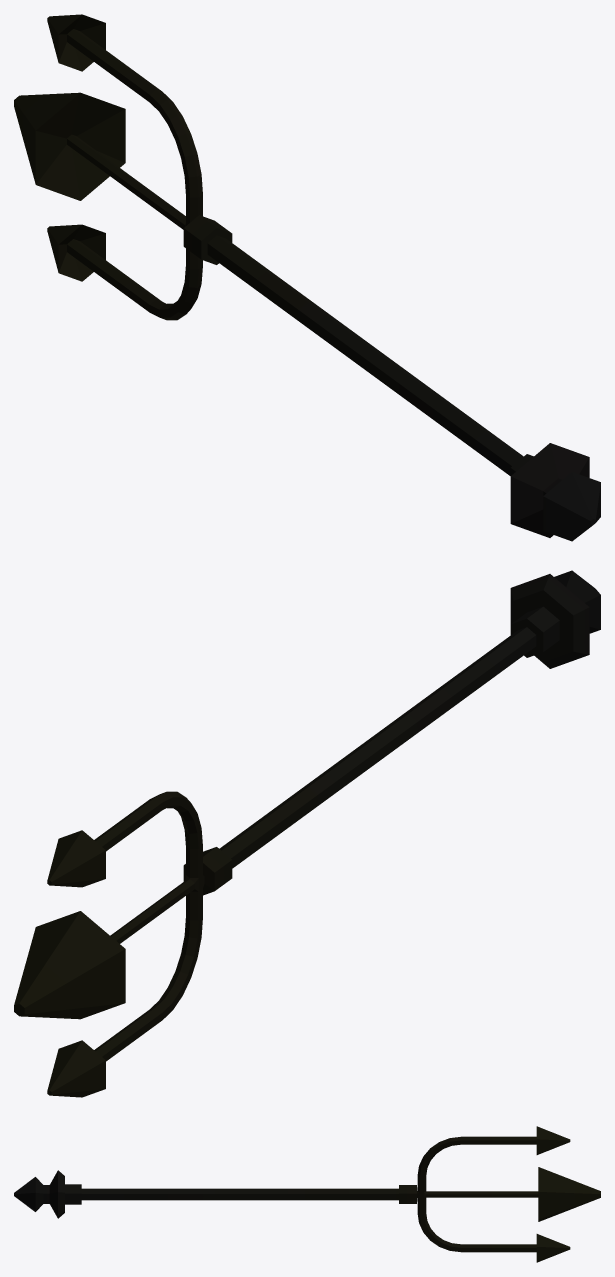
Rendered from Trident.fbx.
3 views of the same model, one above another, from view 1: azimuth 30°, elevation 25°; view 2: azimuth 150°, elevation 25°; view 3: azimuth 270°, elevation 25° (orthographic). The views are drawn at different scales.
Parts seen in each view (by area): view 1: Trident; view 2: Trident; view 3: Trident.
Boxes of the visible parts, x1=… form: Trident: x1=14, y1=14, x2=600, y2=541; Trident: x1=14, y1=570, x2=600, y2=1097; Trident: x1=14, y1=1126, x2=600, y2=1262.
Size of the model in its own units: 55.4 by 158 by 613.
